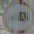Heavy Vehicles: (3, 0, 33, 32)
